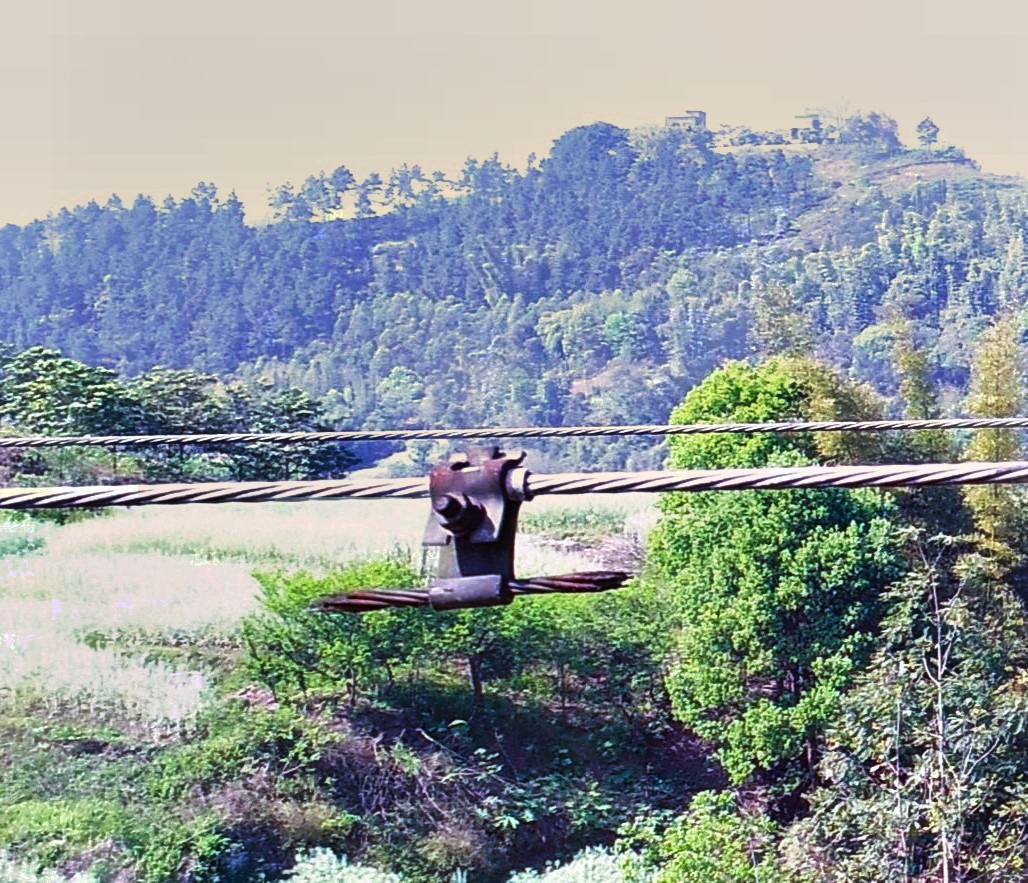Damage of shockproof hammer: (304, 427, 646, 635)
